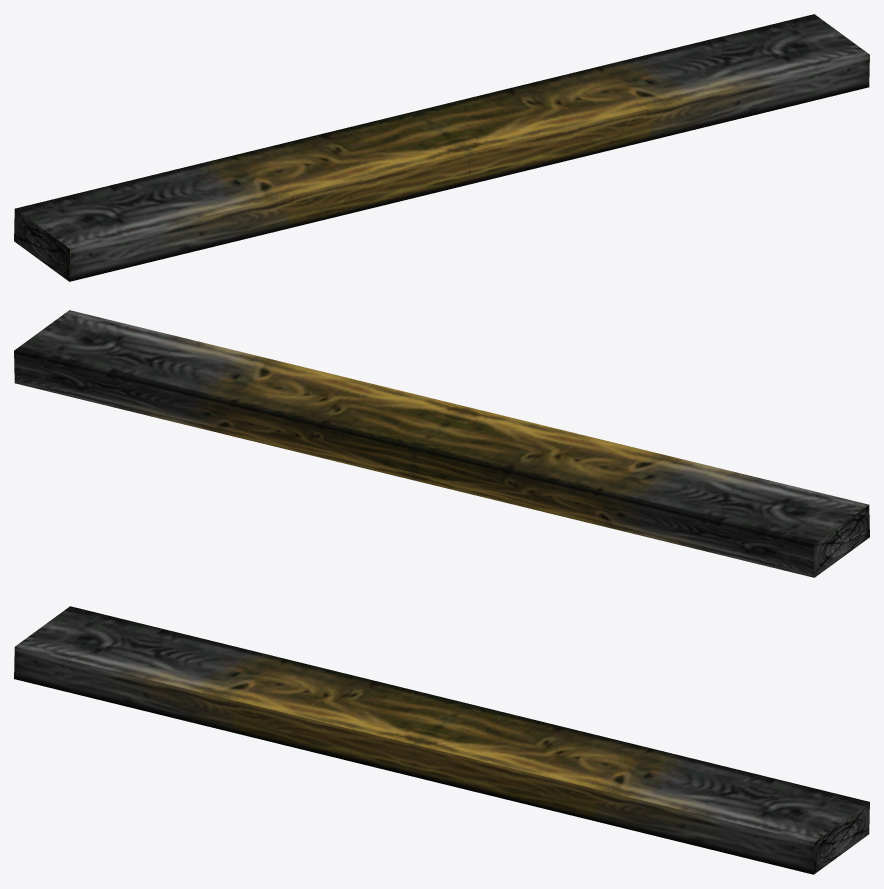
File: CB_BOARD3.fbx
3 renders of one model, top to bottom at view 1: azimuth 30°, elevation 25°; view 2: azimuth 150°, elevation 25°; view 3: azimuth 330°, elevation 25°, orthographic.
Parts seen in each view (by area): view 1: CB_BOARD3; view 2: CB_BOARD3; view 3: CB_BOARD3.
Part boxes in pixels (x1,y1,x2,y2): CB_BOARD3: [14, 14, 869, 281]; CB_BOARD3: [14, 310, 869, 577]; CB_BOARD3: [14, 606, 869, 874].
Size of the model in its own units: 71047 by 2799 by 8527.
2 materials, 2 textured.
